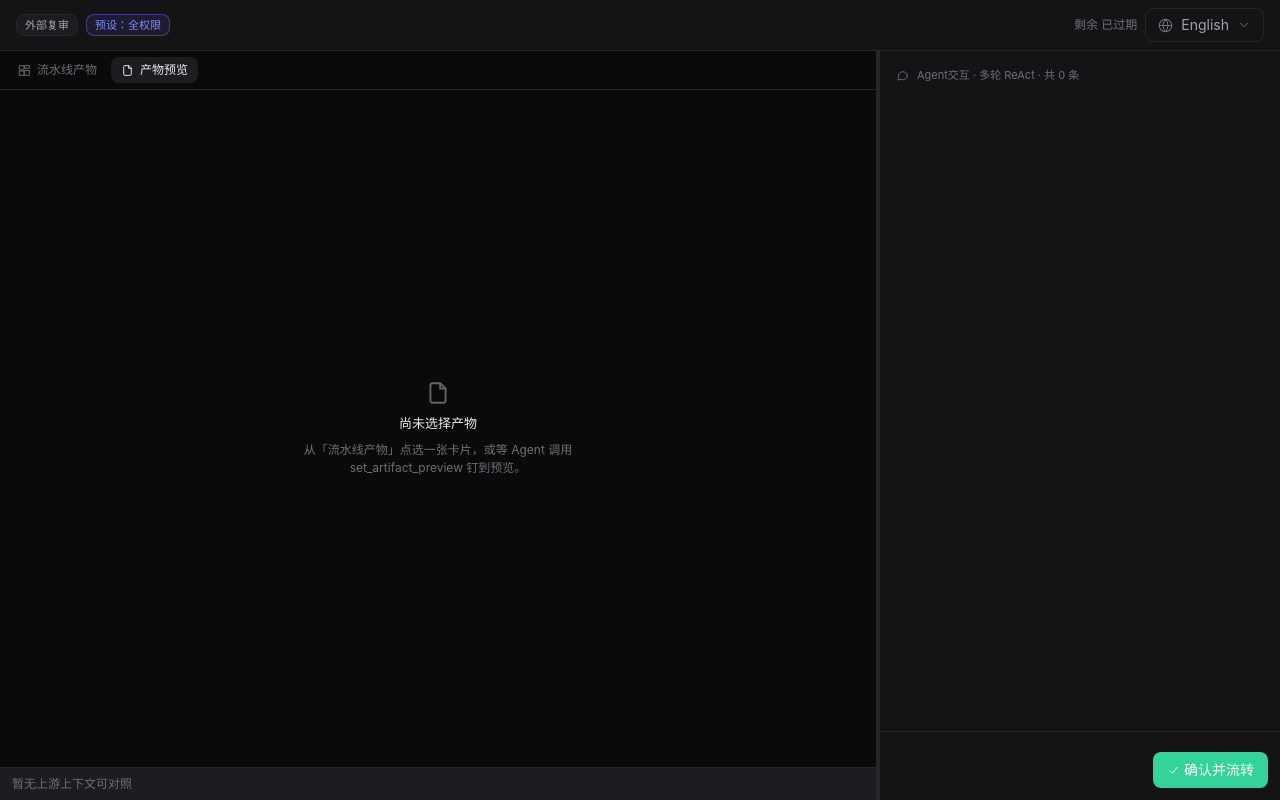
Test: PublicGateApprovalView workbench › does not refresh nonce for csrf, rate limit, or network failures
Click the button with test id "clarify-confirm-flow": [1210, 770] box [1153,752,1268,788]
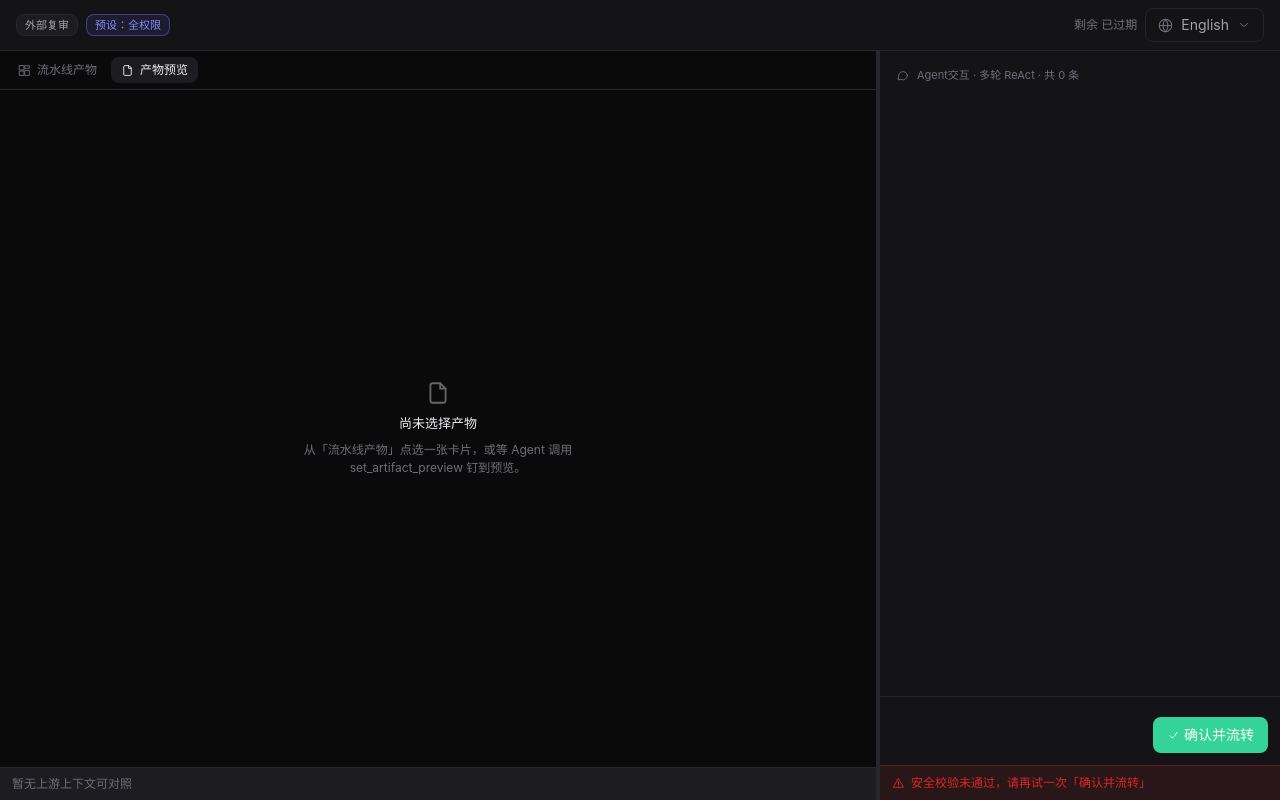
Now the message with test id "clarify-confirm-error" shows "安全校验未通过", box [911,775,1151,790]
Click the button with test id "clarify-confirm-flow": [1210, 735] box [1153,717,1268,753]
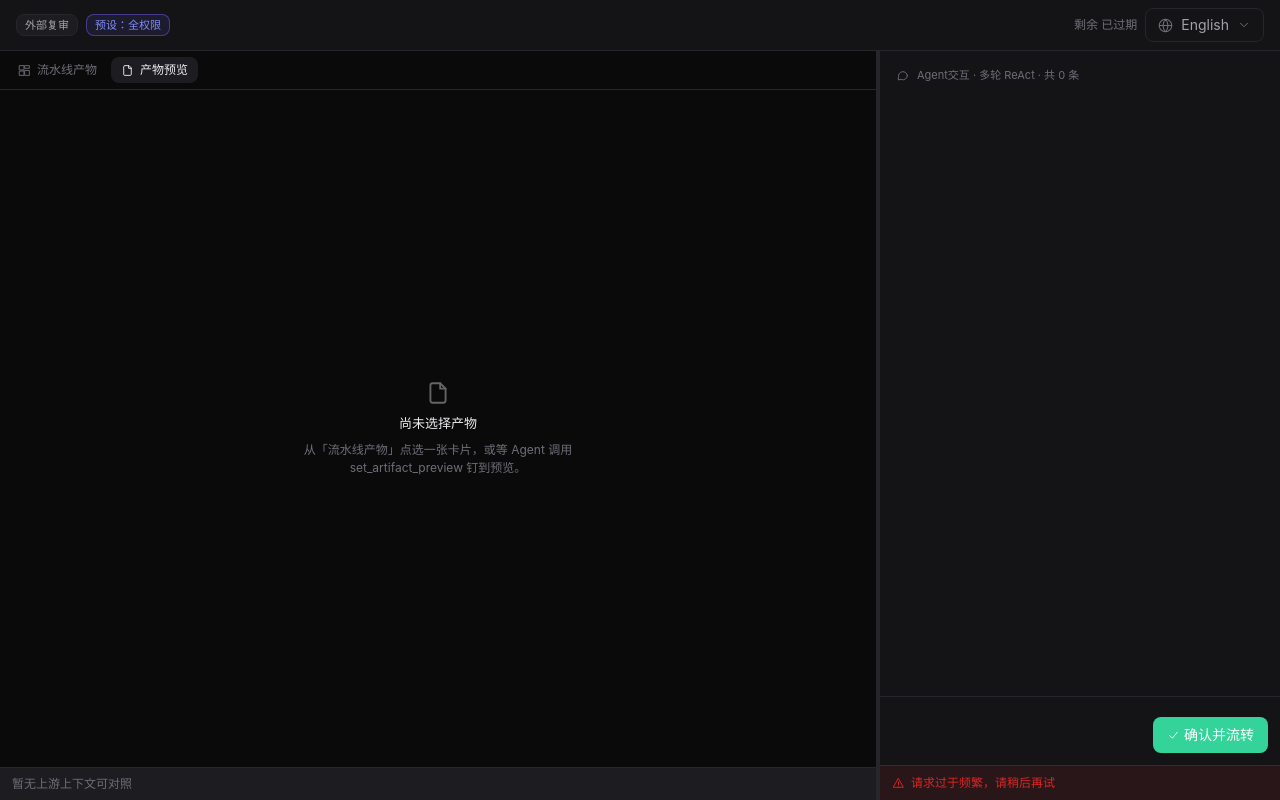
Now the message with test id "clarify-confirm-error" reads "请求过于频繁，请稍后再试", box [911,775,1055,790]
Click the button with test id "clarify-confirm-flow": [1210, 735] box [1153,717,1268,753]
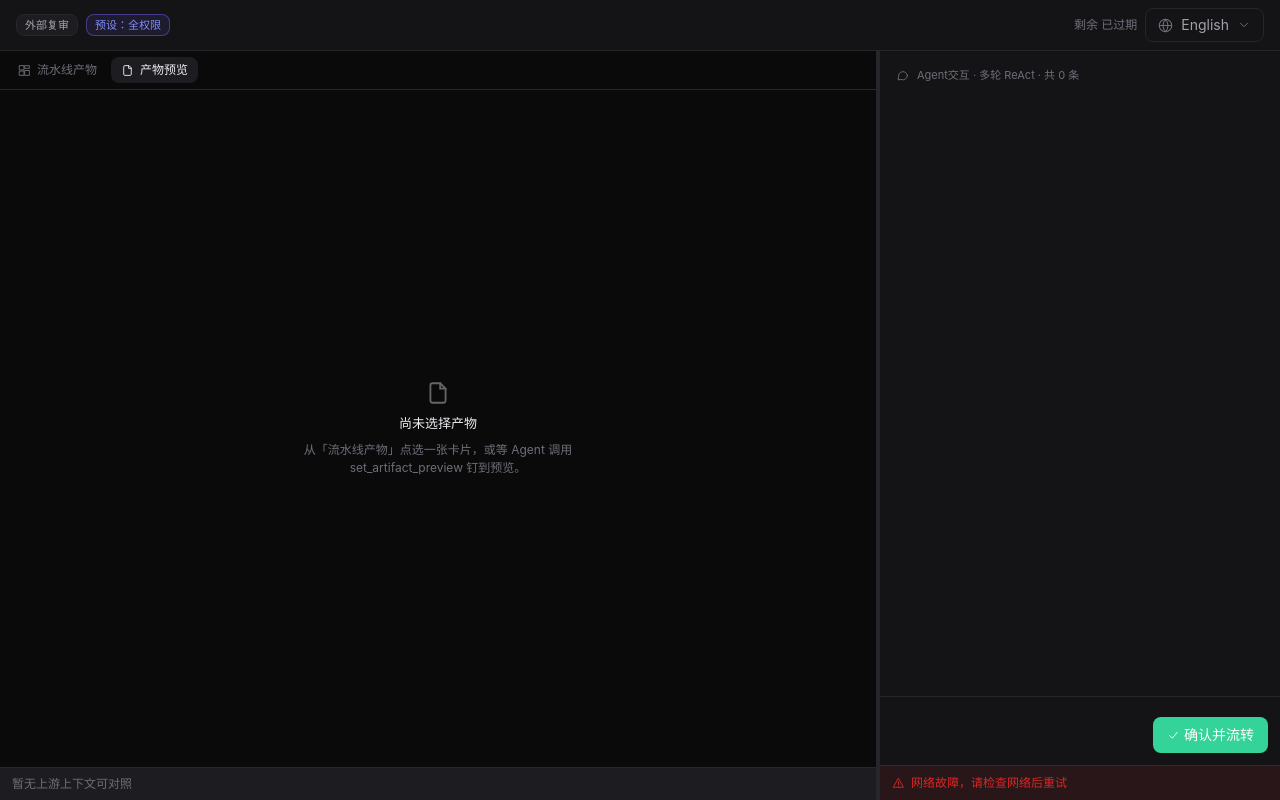
Now the message with test id "clarify-confirm-error" reads "网络故障，请检查网络后重试", box [911,775,1067,790]
